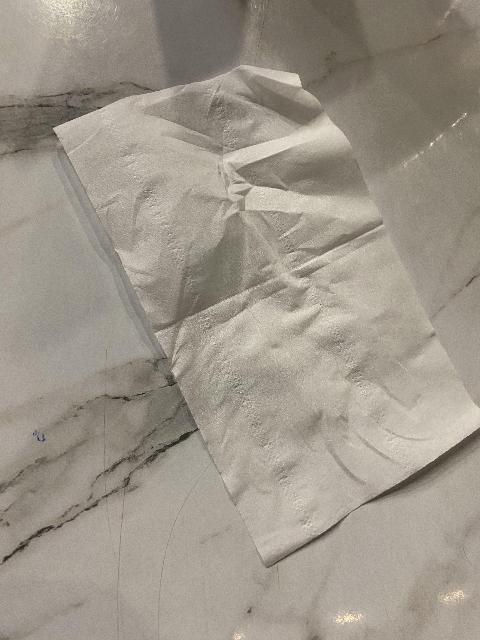Kagit: (52, 62, 480, 567)
